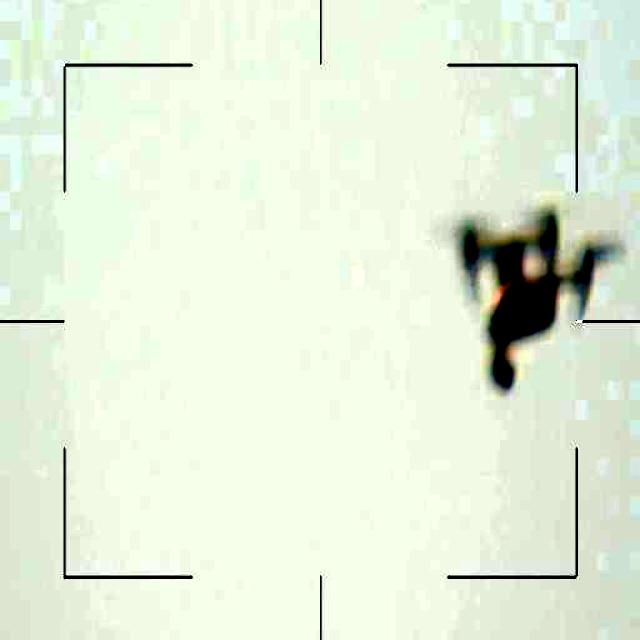bird: (406, 204, 565, 389)
